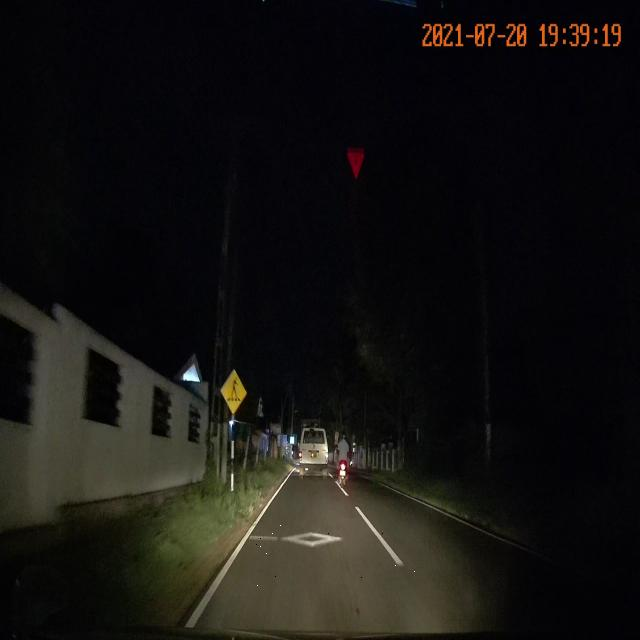diamond: (207, 521, 418, 595)
